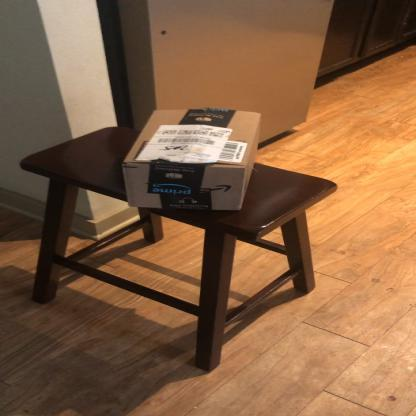package: (124, 106, 262, 215)
